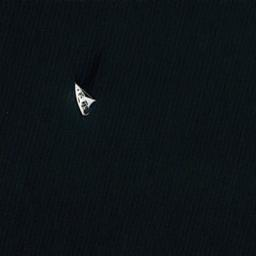boat: (72, 79, 97, 116)
